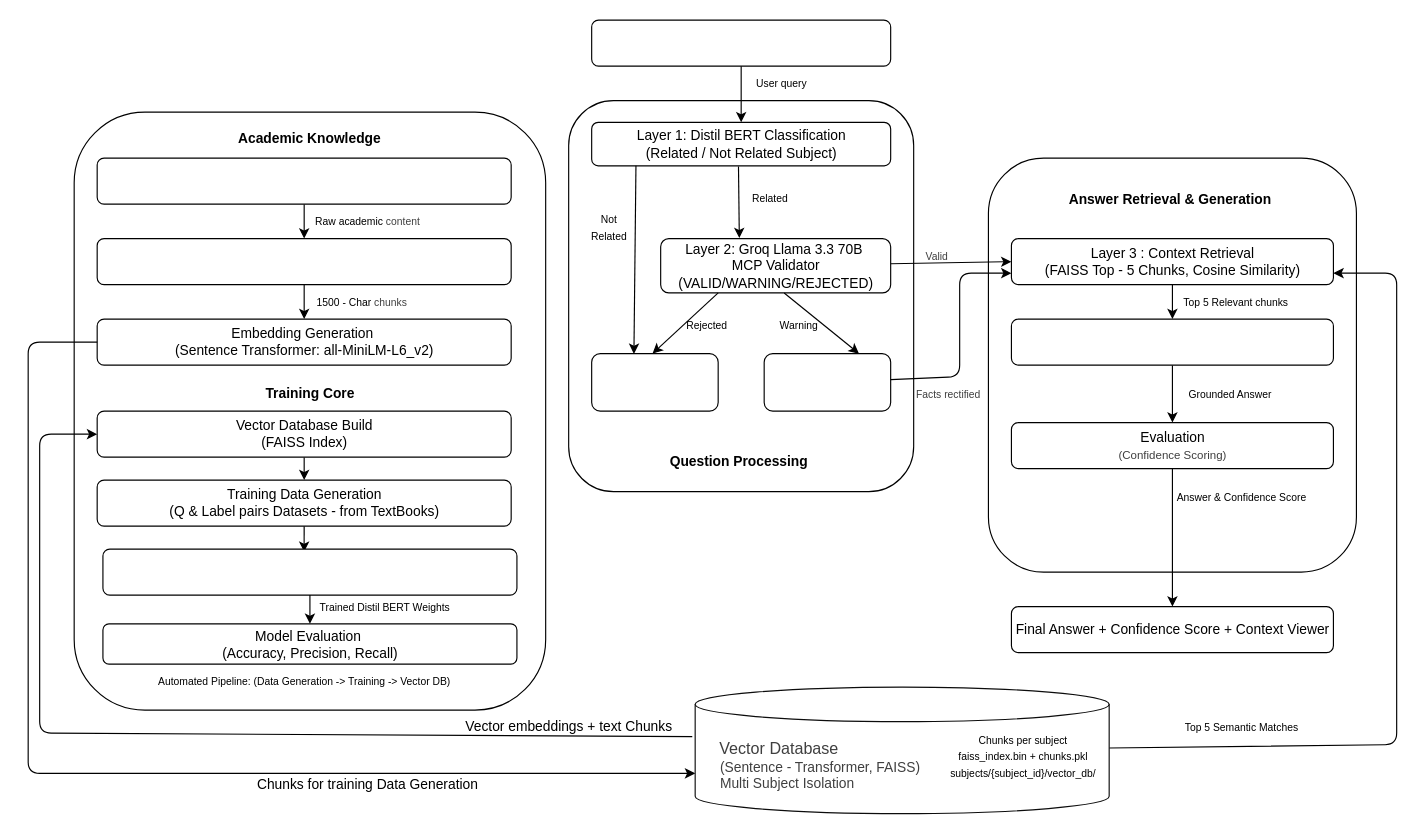
Image size: 1426x834. Some labels were removed from this diagram. Here are the shapes that lost their labels. From the top down, the box of each, then its label:
(591, 19, 891, 66): User Question Input
(96, 157, 511, 204): Academic Data Ingestion (PyMuPDF)
(96, 237, 511, 285): Text Chunking (Char Based)
(1010, 318, 1333, 365): Answer Generation (Ollama Llama 3.2 3B + RAG)
(591, 352, 718, 411): Reject Question (Out of syllabus / invalid)
(763, 352, 891, 411): Warning Question (Wrong facts)
(102, 548, 517, 595): Distil BERT Fine Tuning (Layer 1 Classifier)
